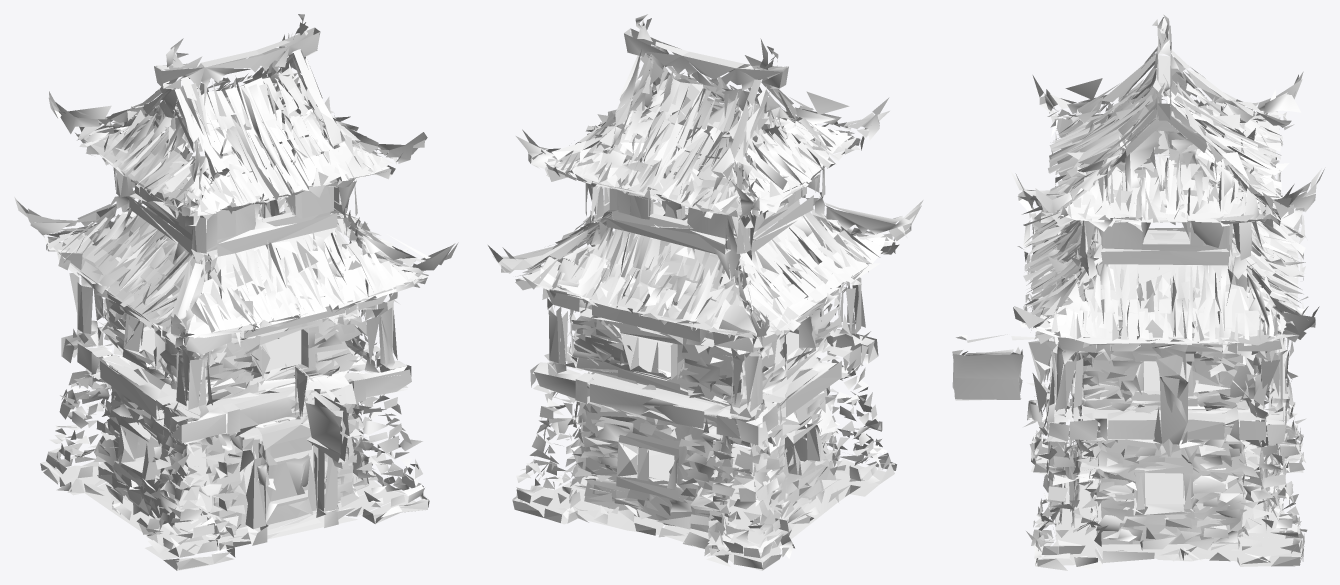
Rendered from house_stone_b_lod2.glb.
3 views of the same model, side by side, from view 1: azimuth 30°, elevation 25°; view 2: azimuth 150°, elevation 25°; view 3: azimuth 270°, elevation 25° (orthographic).
Visible parts, largest first — view 1: house_stone_b; view 2: house_stone_b; view 3: house_stone_b.
Part boxes in pixels (<box>): house_stone_b: <box>14,14,458,570</box>; house_stone_b: <box>488,14,923,570</box>; house_stone_b: <box>952,14,1324,570</box>.
Bounding box in the file's own units: 7.06 × 11.11 × 7.99.
1 material, 1 textured.
